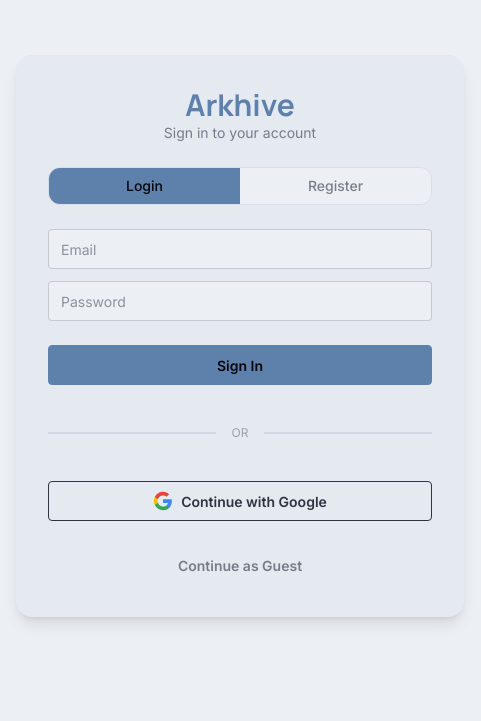
Scenario: LoginPage › switches to register mode and displays the display name and last name fields
The width and height of the screenshot is (481, 721).
Click the button "Register".
click(336, 186)  # box left=240, top=168, right=431, bottom=204
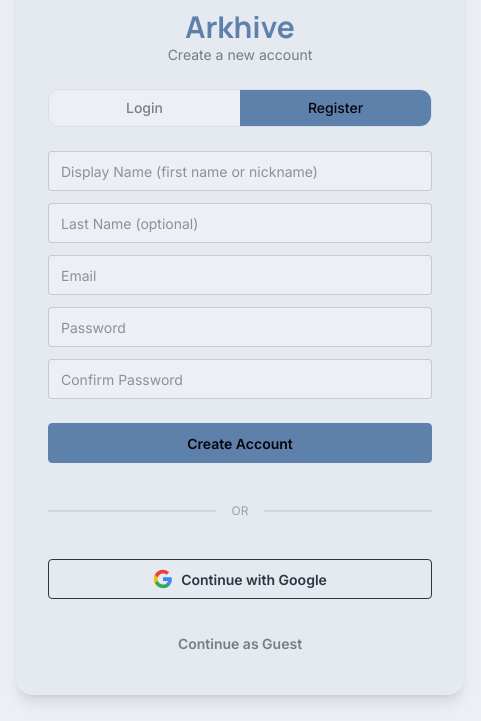
expect the field with placeholder "Display Name (first name or nickname)" is shown: met, box left=48, top=151, right=432, bottom=191
expect the field with placeholder "Last Name (optional)" is shown: met, box left=48, top=203, right=432, bottom=243
expect the password field with placeholder "Confirm Password" is shown: met, box left=48, top=359, right=432, bottom=399
